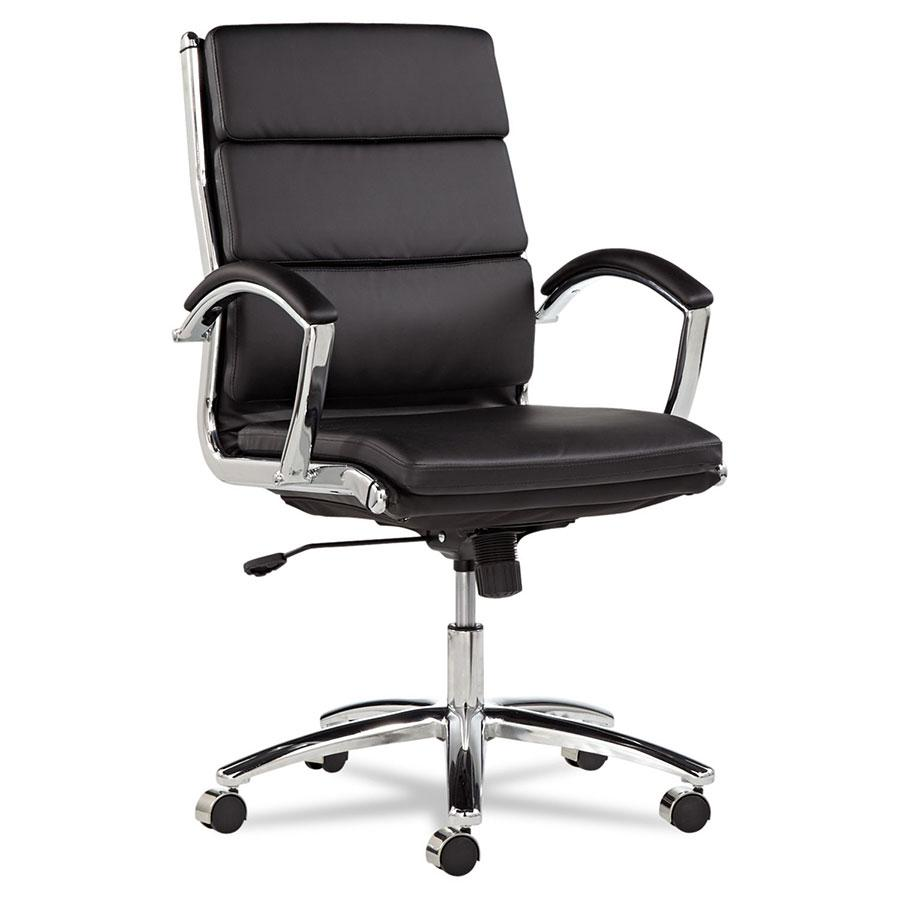chair: (153, 20, 787, 888)
